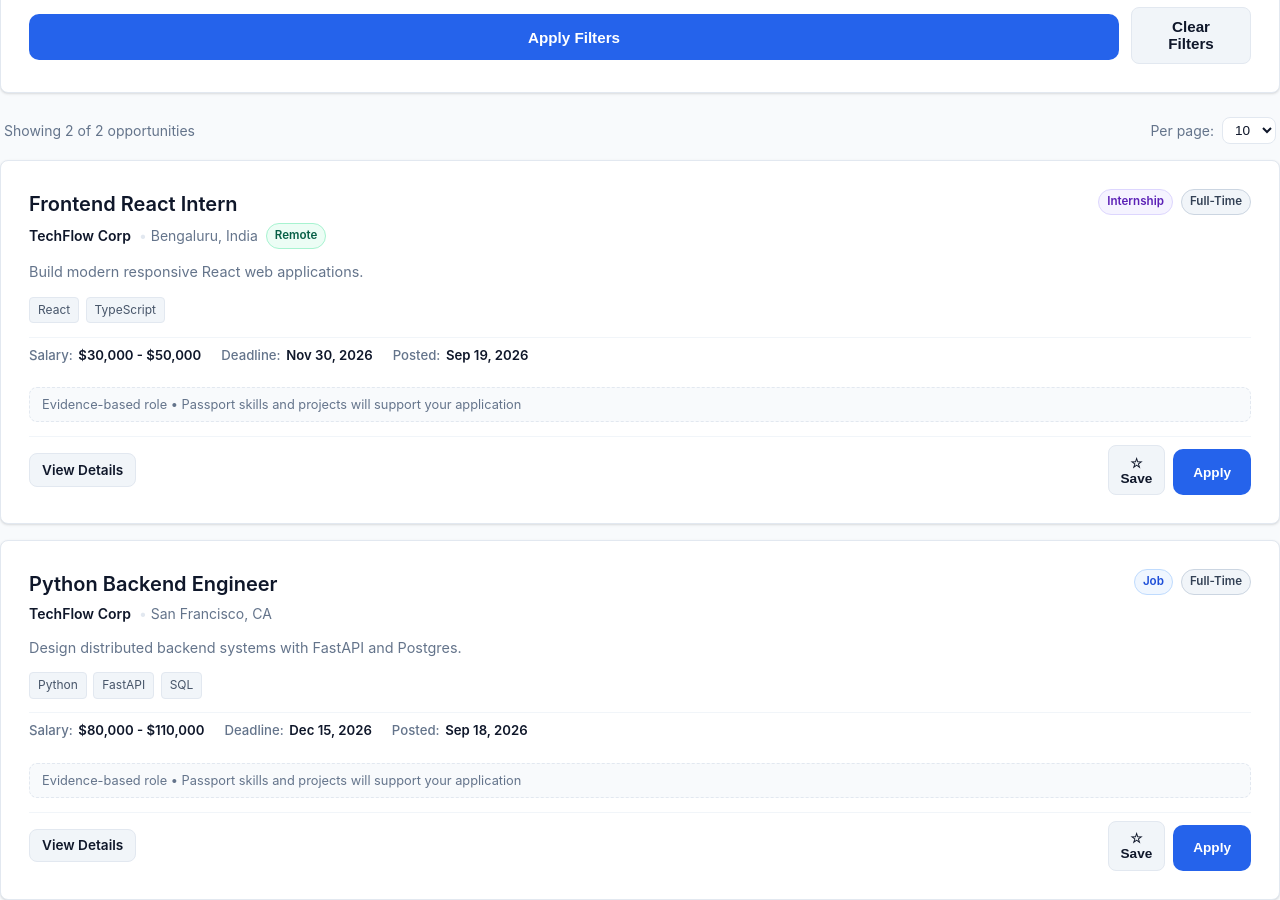
Scenario: JobDiscoveryPage › allows student to save an unsaved job and updates bookmark state
The width and height of the screenshot is (1280, 900).
(page scrolled)
Click the button with test id "save-btn-1" at (1136, 470), box [1108,445,1165,495]
(page scrolled)
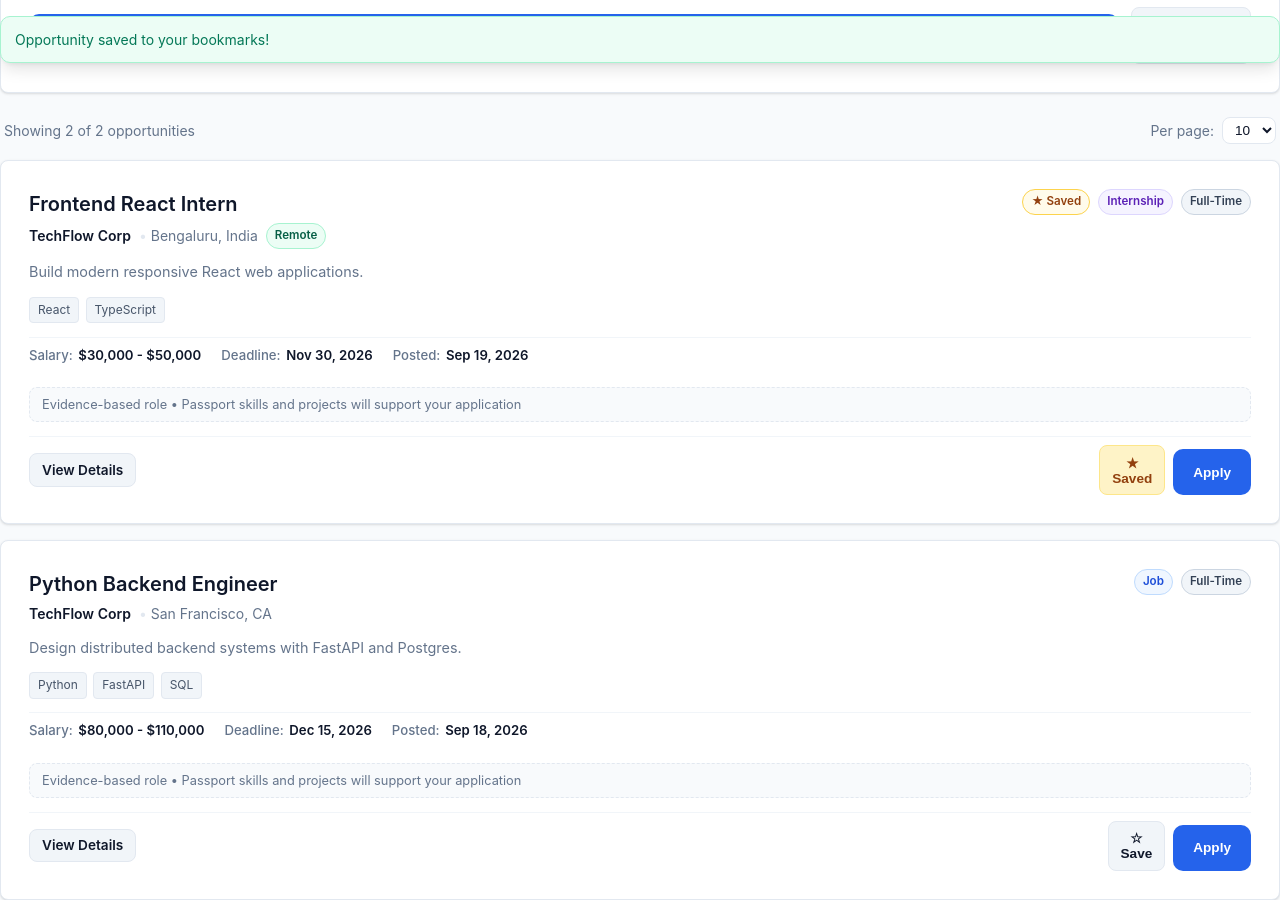
Now the button with test id "save-btn-1" reads "★ Saved", box [1099,445,1165,495]
Now the message reads "Opportunity saved to your bookmarks!", box [15,31,269,48]
